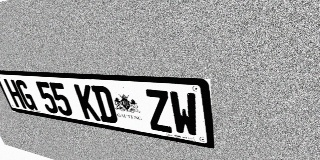5: (48, 82, 74, 117), (35, 81, 60, 114)
D: (91, 85, 119, 124)
G: (14, 80, 38, 111)
H: (3, 79, 27, 109)
K: (73, 84, 101, 121)
W: (168, 91, 200, 138)
Z: (143, 89, 174, 133)
